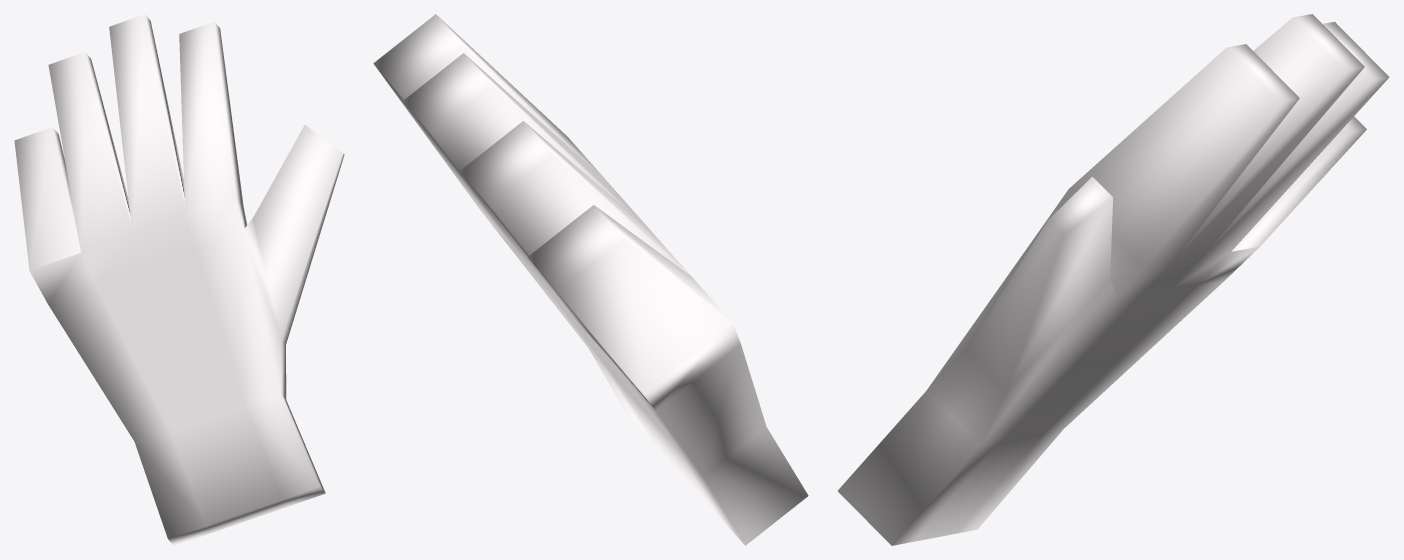
The model's file is left_gloves.glb.
The picture shows the model from 3 angles, left to right: view 1: azimuth 30°, elevation 25°; view 2: azimuth 150°, elevation 25°; view 3: azimuth 270°, elevation 25°; orthographic projection. The views are drawn at different scales.
Visible parts, largest first — view 1: Left hand; view 2: Left hand; view 3: Left hand.
Boxes of the visible parts, x1,y1,x2,y2 form: Left hand: (14, 14, 344, 545); Left hand: (373, 14, 808, 545); Left hand: (838, 14, 1389, 545).
Size of the model in its own units: 0.719 by 1.08 by 0.9461.
Materials: 1 (1 with a texture image).
